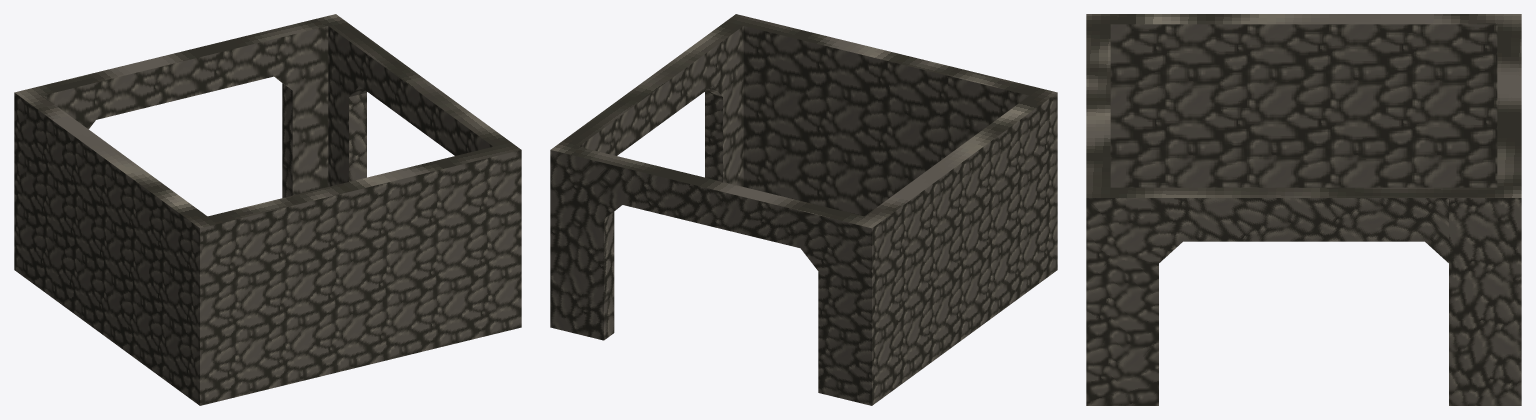
File: Temple.fbx
3 views of the same model, side by side, from view 1: azimuth 30°, elevation 25°; view 2: azimuth 150°, elevation 25°; view 3: azimuth 270°, elevation 25° (orthographic). The views are drawn at different scales.
Parts seen in each view (by area): view 1: Temple; view 2: Temple; view 3: Temple.
Part boxes in pixels (x1,y1,x2,y2): Temple: (14, 14, 521, 405); Temple: (550, 14, 1057, 405); Temple: (1086, 14, 1521, 405).
Size of the model in its own units: 18 by 9.5 by 18.
